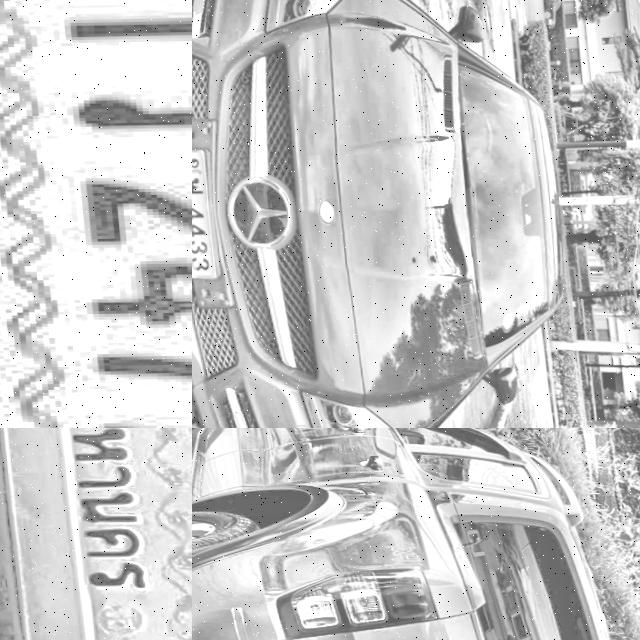license-plate: (0, 0, 192, 428), (0, 428, 192, 640), (192, 142, 217, 283)
